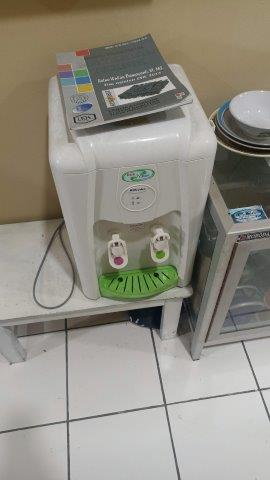kertas: (53, 35, 192, 139)
